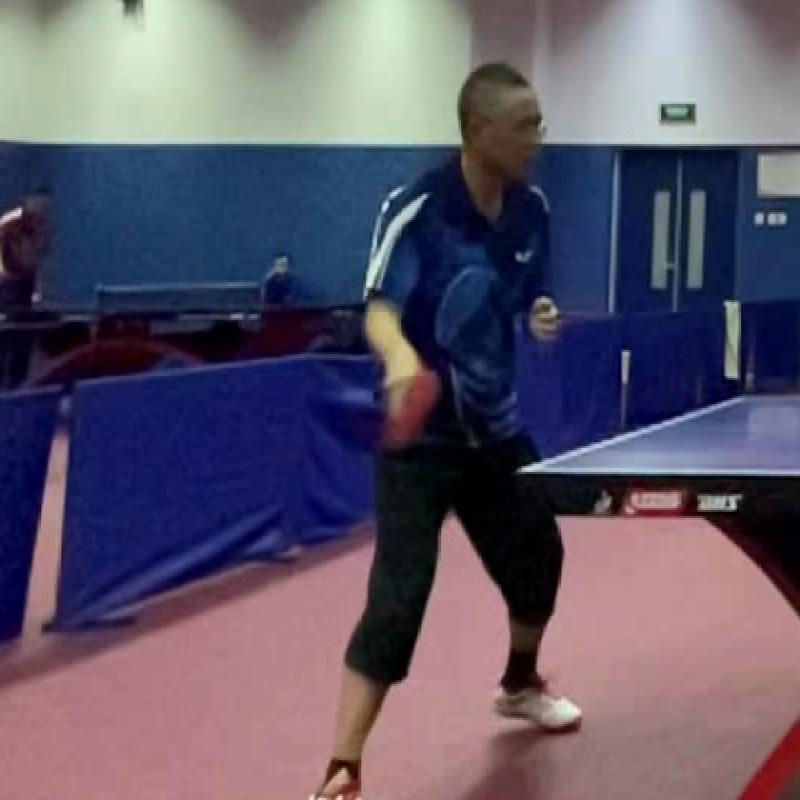bats: (371, 362, 457, 456)
